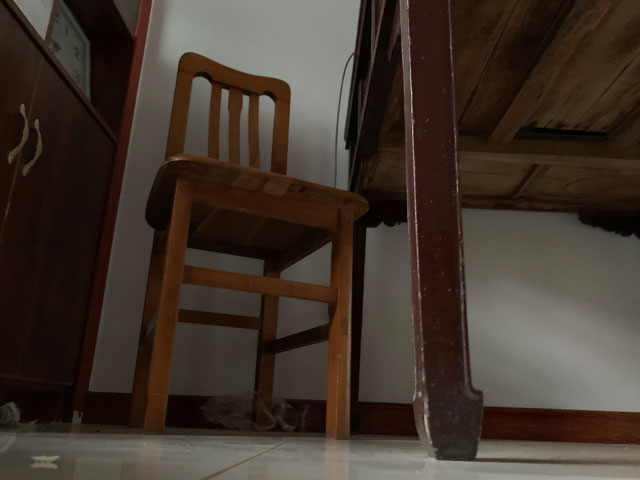cabinet: (1, 1, 154, 428)
stool: (126, 48, 375, 438)
table: (329, 1, 640, 460)
